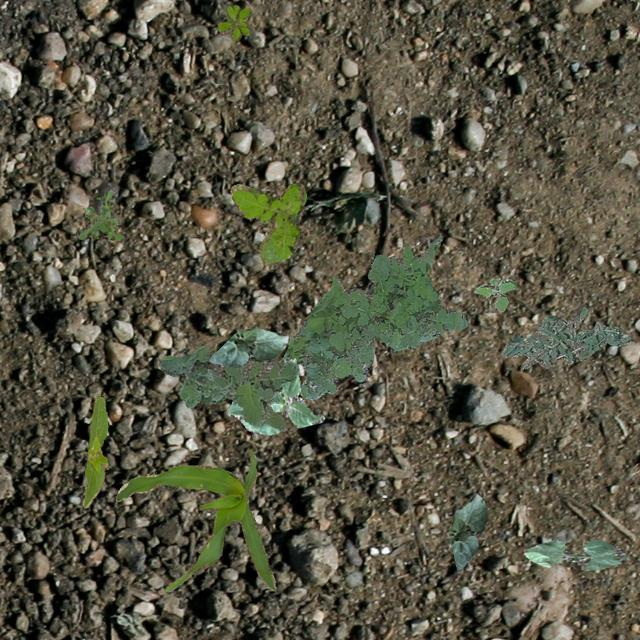crop: (114, 448, 274, 590), (225, 356, 324, 434), (522, 538, 624, 570), (208, 326, 288, 366), (448, 492, 488, 570), (81, 396, 108, 506)
weed: (278, 234, 466, 400), (158, 344, 298, 428), (500, 306, 630, 368), (230, 182, 306, 262), (76, 188, 121, 240), (474, 276, 516, 310), (217, 3, 250, 40)
